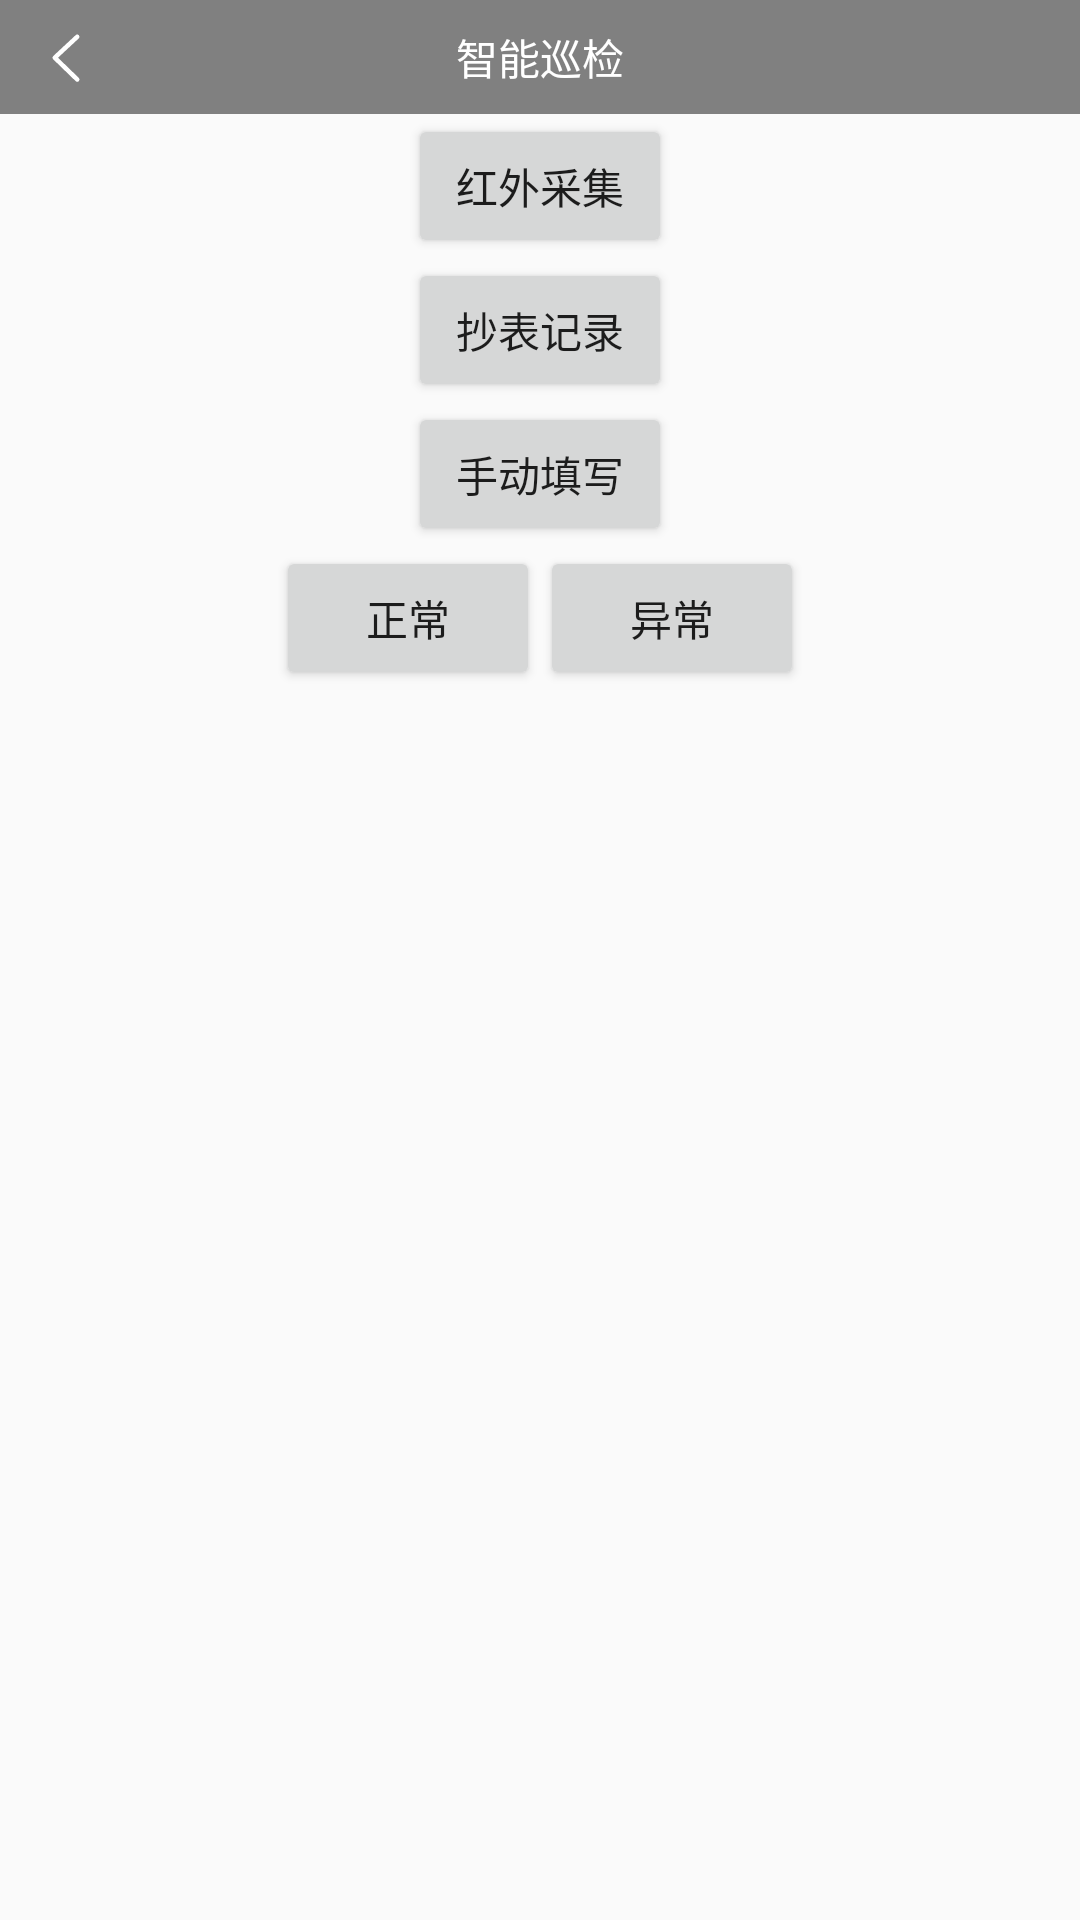

Locate icon controls on the screen. Image size 1080x1920, boxes as BBox(x1, y1, x2, y2).
return imageview: BBox(52, 34, 80, 82)
